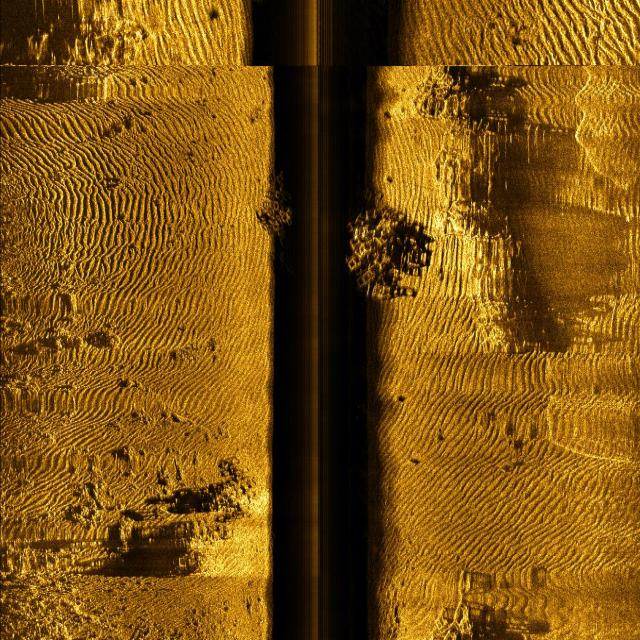artificial reef: (342, 208, 416, 318), (419, 559, 481, 640), (268, 175, 308, 263)
